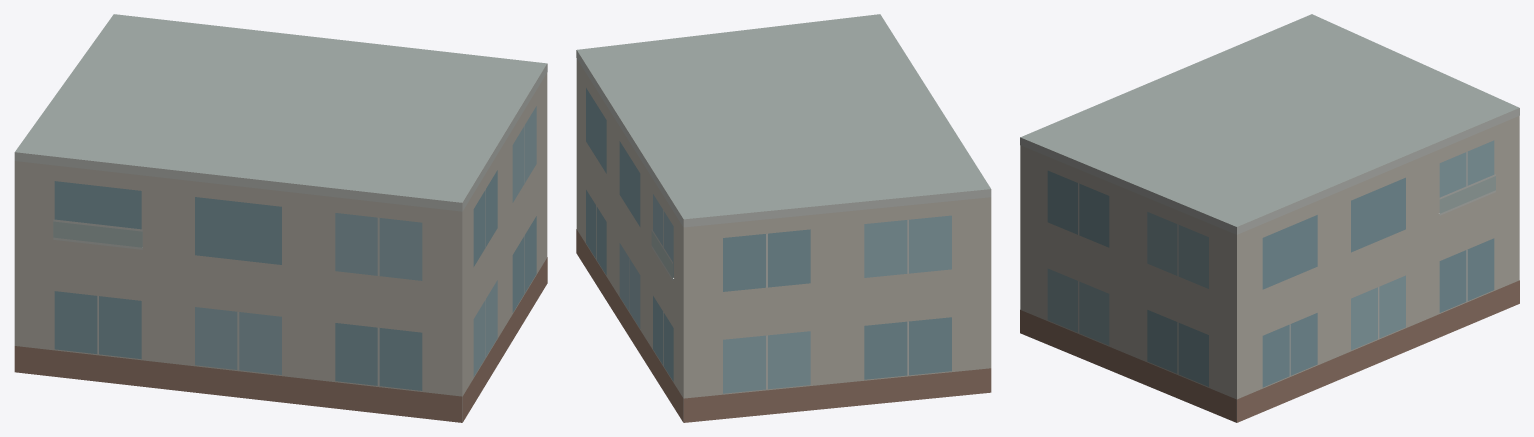
Rendered from survey-upis-32577811.glb.
3 renders of one model, left to right at view 1: azimuth 30°, elevation 25°; view 2: azimuth 150°, elevation 25°; view 3: azimuth 270°, elevation 25°, orthographic. The views are drawn at different scales.
Visible parts, largest first — view 1: survey-upis-32577811.tmp; view 2: survey-upis-32577811.tmp; view 3: survey-upis-32577811.tmp.
Boxes of the visible parts, box(x1,y1,x2,y2) form: survey-upis-32577811.tmp: box(14, 14, 547, 422); survey-upis-32577811.tmp: box(576, 14, 991, 422); survey-upis-32577811.tmp: box(1020, 14, 1519, 422).
Size of the model in its own units: 14.24 by 6.1 by 14.11.
